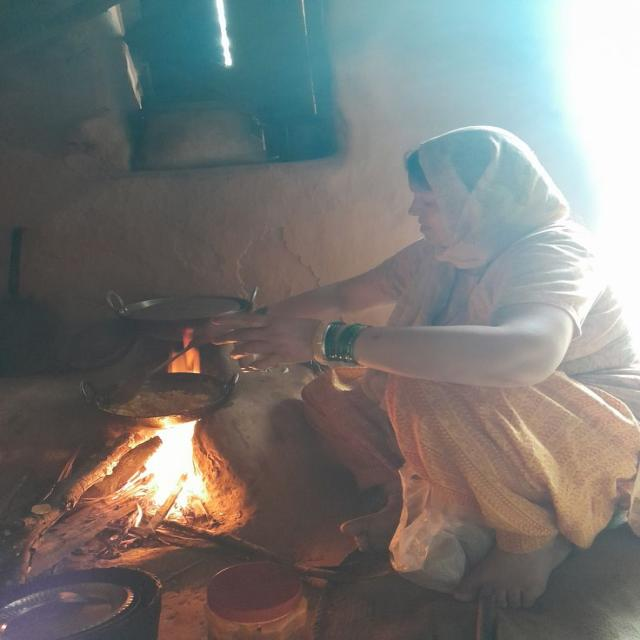fire: (147, 422, 209, 505), (170, 328, 201, 373)
